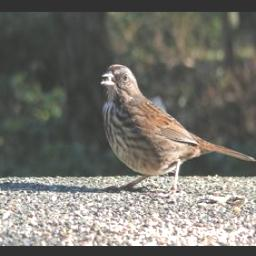Sparrow: (97, 59, 256, 199)
